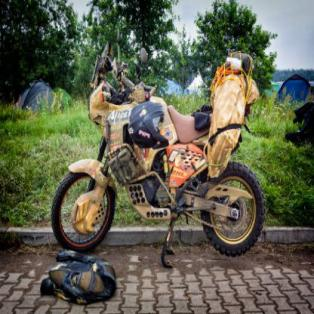Motocicleta: (47, 47, 262, 255)
